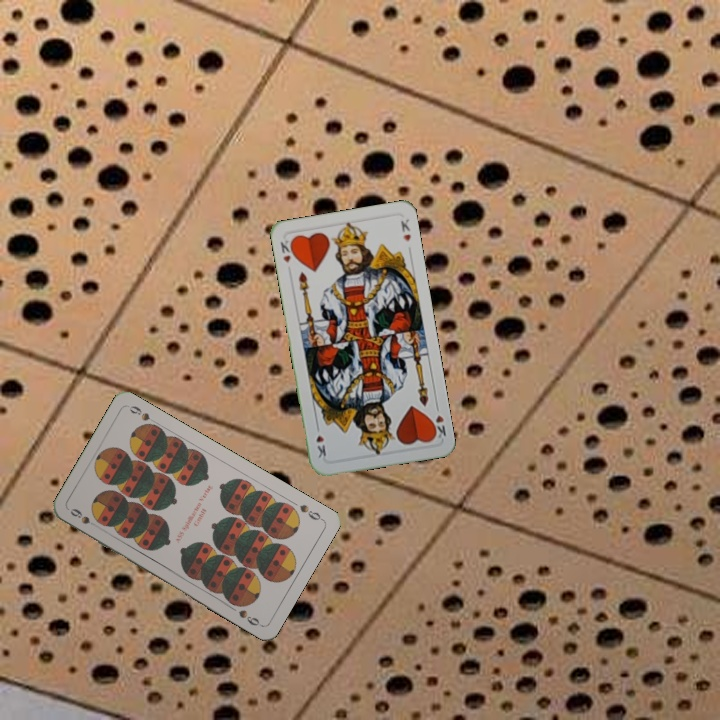HK: (427, 400, 449, 441), (276, 234, 297, 265)
S9: (66, 504, 102, 531), (295, 500, 326, 523)
